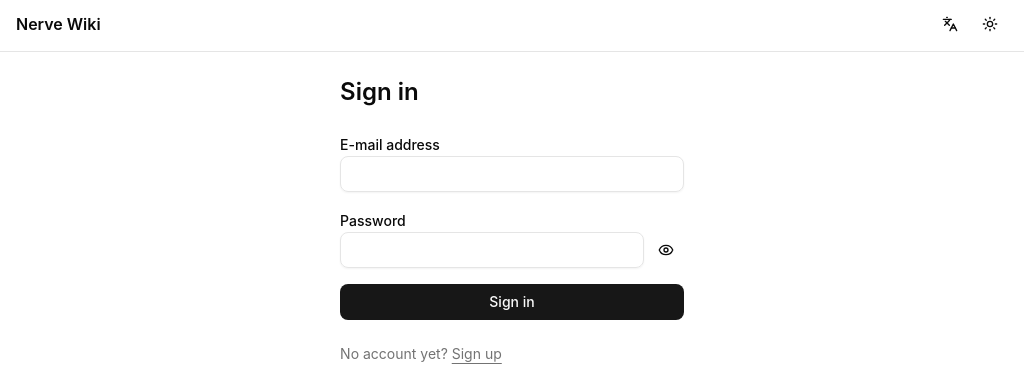
Test: signing in goes to next
Type " ada@example.com " into the field labelled "E-mail address" at (512, 174), box [340, 156, 684, 192]
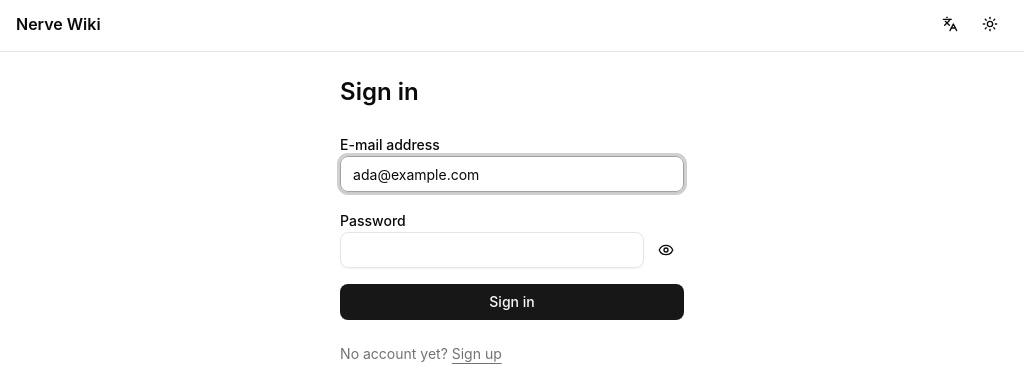
Type "correct horse" into the password field labelled "Password" at (492, 250), box [340, 232, 644, 268]
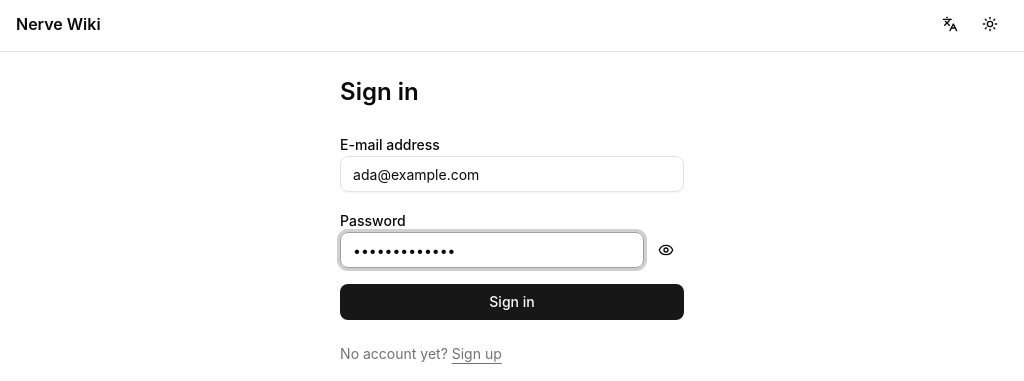
Click the button "Sign in" at (512, 302), box [340, 284, 684, 320]
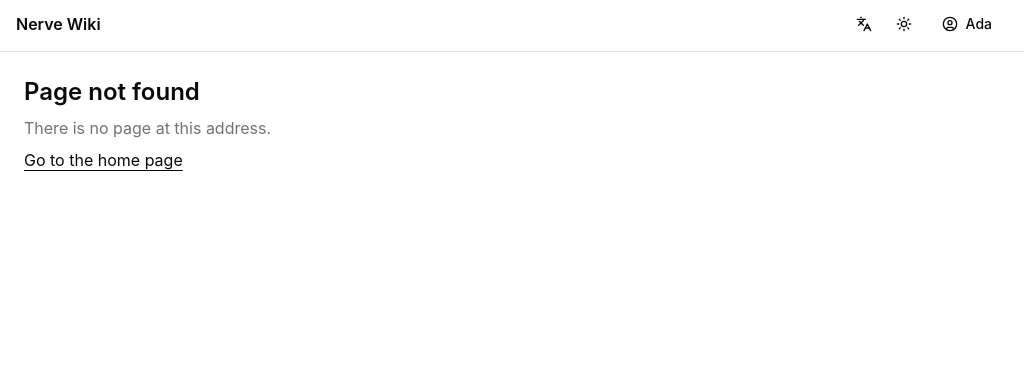
Now the heading "Page not found" is shown, box [24, 77, 200, 106]
